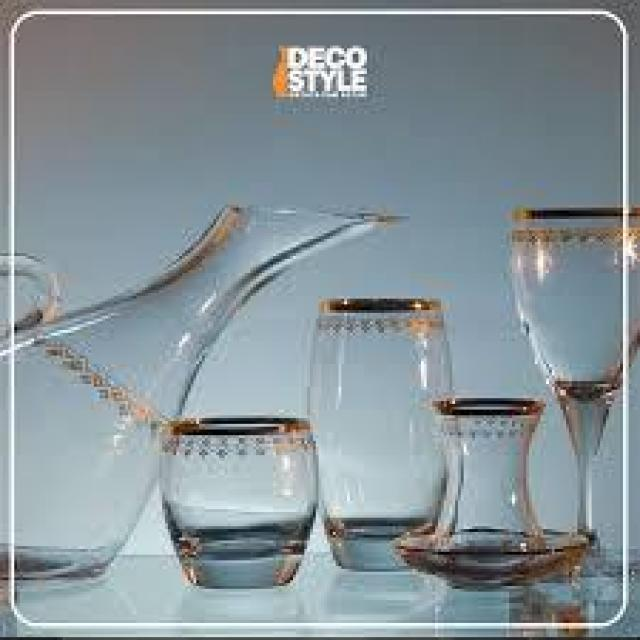non-organic waste: (0, 198, 418, 593), (506, 205, 640, 583), (397, 395, 590, 583), (151, 412, 321, 594)
